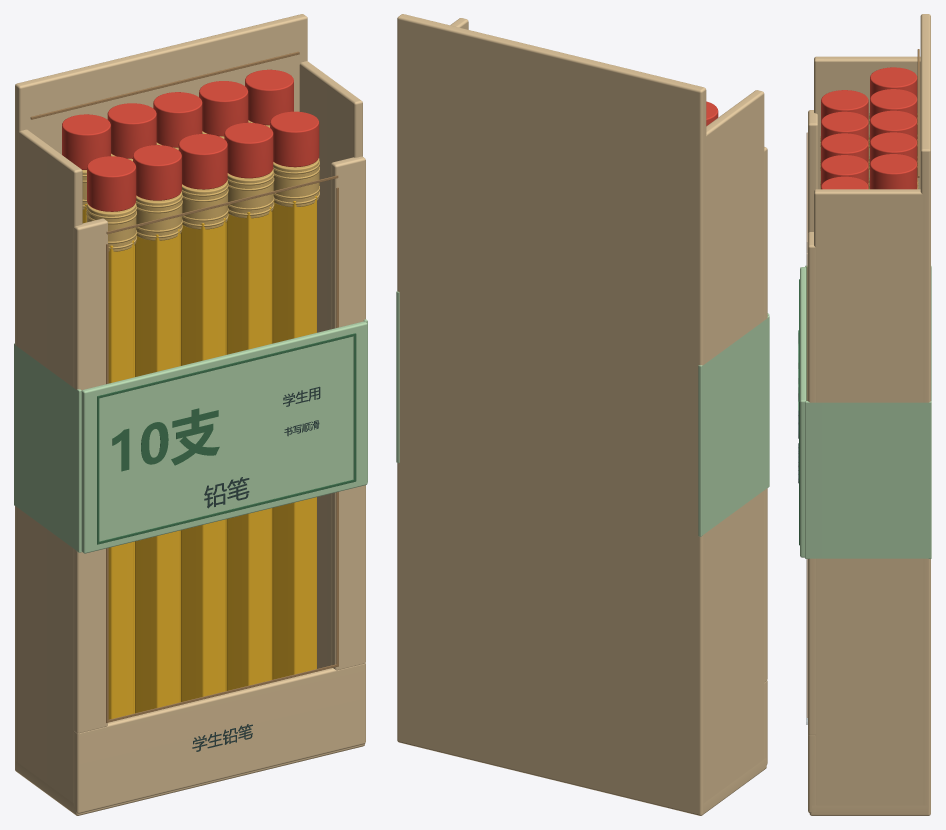
Rendered from pencils.glb.
3 views of the same model, side by side, from view 1: azimuth 30°, elevation 25°; view 2: azimuth 150°, elevation 25°; view 3: azimuth 270°, elevation 25° (orthographic). The views are drawn at different scales.
Visible parts, largest first — view 1: Mint label front, Carton left folded side, Front lower pocket, Carton back panel, Pencil 03 hexagonal yellow barrel, Pencil 04 hexagonal yellow barrel, Pencil 05 hexagonal yellow barrel, Pencil 02 hexagonal yellow barrel, Window left border, Window right border, Mint label side wrap, Carton right folded side (+25 smaller); view 2: Carton back panel, Carton left folded side, Mint label side wrap, Window left border, Mint label side wrap.001, Flat standing base; view 3: Carton right folded side, Mint label side wrap.001, Carton back panel, Carton left folded side, Window right border, Mint label front, Pencil 10 red eraser, Flat standing base, Pencil 02 red eraser, Pencil 03 red eraser, Pencil 09 red eraser, Pencil 08 red eraser (+10 smaller).
Boxes of the visible parts, box(x1,y1,x2,y2) form: Mint label front: box(81, 321, 367, 553); Carton left folded side: box(18, 129, 82, 813); Front lower pocket: box(73, 663, 365, 813); Carton back panel: box(15, 14, 307, 772); Pencil 03 hexagonal yellow barrel: box(180, 218, 225, 701); Pencil 04 hexagonal yellow barrel: box(226, 207, 271, 690); Pencil 05 hexagonal yellow barrel: box(272, 195, 316, 679); Pencil 02 hexagonal yellow barrel: box(135, 229, 179, 713); Window left border: box(73, 218, 107, 733); Window right border: box(331, 156, 365, 670); Mint label side wrap: box(14, 343, 81, 552); Carton right folded side: box(299, 61, 362, 668); Carton back panel: box(397, 14, 706, 815); Carton left folded side: box(705, 90, 764, 812); Mint label side wrap: box(698, 315, 769, 536); Window left border: box(764, 147, 767, 682); Mint label side wrap.001: box(396, 291, 399, 462); Flat standing base: box(703, 758, 766, 814); Carton right folded side: box(814, 189, 923, 815); Mint label side wrap.001: box(805, 401, 931, 558); Carton back panel: box(920, 14, 930, 815); Carton left folded side: box(814, 56, 920, 189); Window right border: box(808, 232, 815, 735); Mint label front: box(800, 267, 806, 557); Pencil 10 red eraser: box(870, 154, 917, 189); Flat standing base: box(809, 805, 927, 815); Pencil 02 red eraser: box(821, 111, 868, 142); Pencil 03 red eraser: box(821, 133, 868, 164); Pencil 09 red eraser: box(870, 132, 917, 162); Pencil 08 red eraser: box(870, 110, 917, 141).
Size of the model in its own units: 0.088 by 0.2 by 0.0362.
